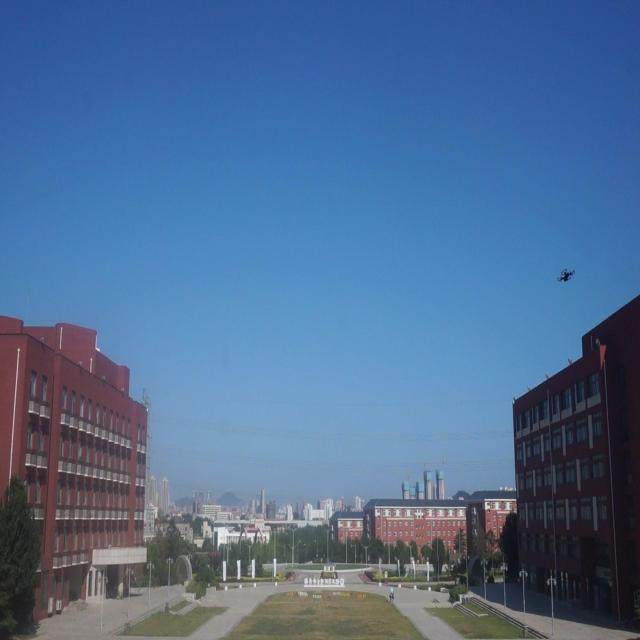drone: (555, 262, 576, 292)
